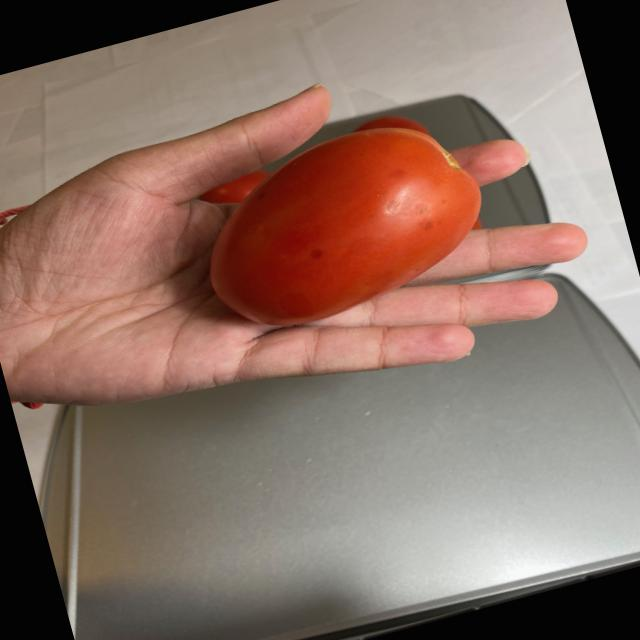tomato: (181, 99, 507, 341)
